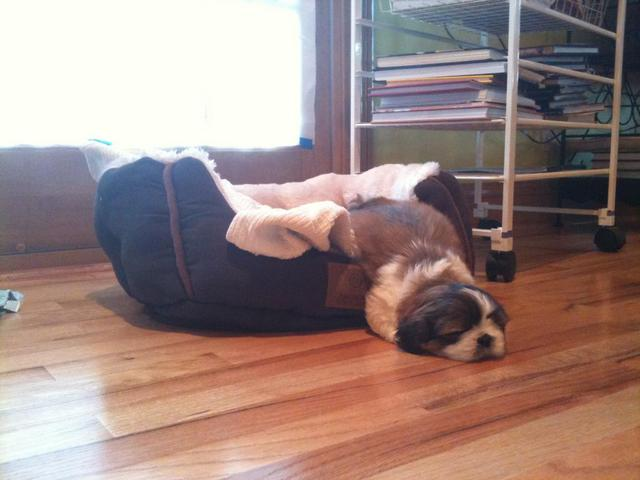dog: (322, 180, 532, 370)
